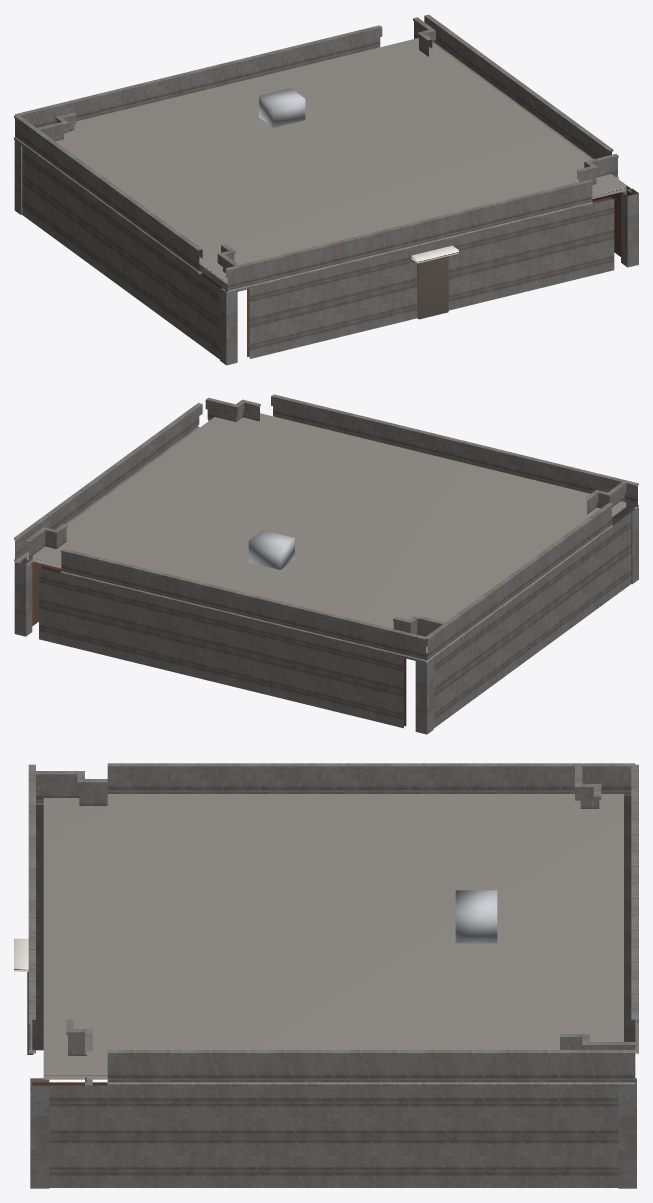
The model's file is b_ware3.gltf.
3 renders of one model, top to bottom at view 1: azimuth 30°, elevation 25°; view 2: azimuth 150°, elevation 25°; view 3: azimuth 270°, elevation 25°, orthographic. The views are drawn at different scales.
Parts seen in each view (by area): view 1: b_ware3; view 2: b_ware3; view 3: b_ware3.
Part boxes in pixels (x1,y1,x2,y2): b_ware3: (14,14,638,365); b_ware3: (14,394,638,734); b_ware3: (14,763,638,1188).
Bounding box in the file's own units: 18.2 × 4.3 × 16.59.
7 materials, 3 textured.
